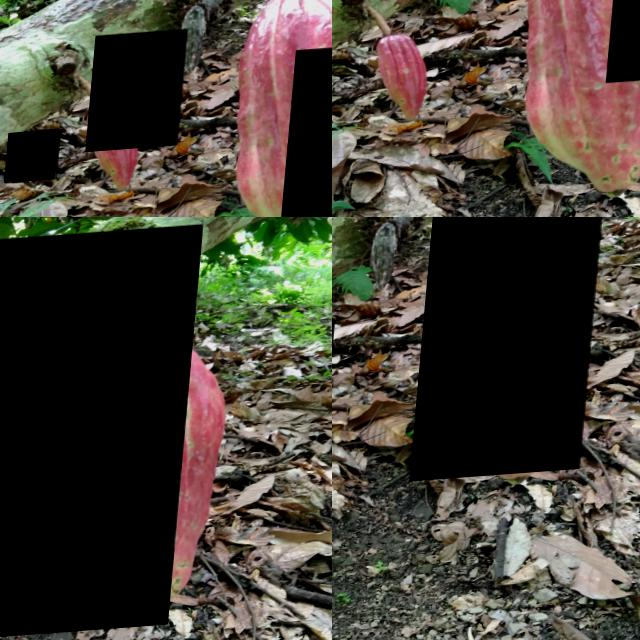Fitoftora: (92, 33, 192, 155)
Monilia: (285, 49, 332, 217)
Sana: (0, 231, 204, 640), (418, 217, 606, 486), (11, 131, 66, 184)
